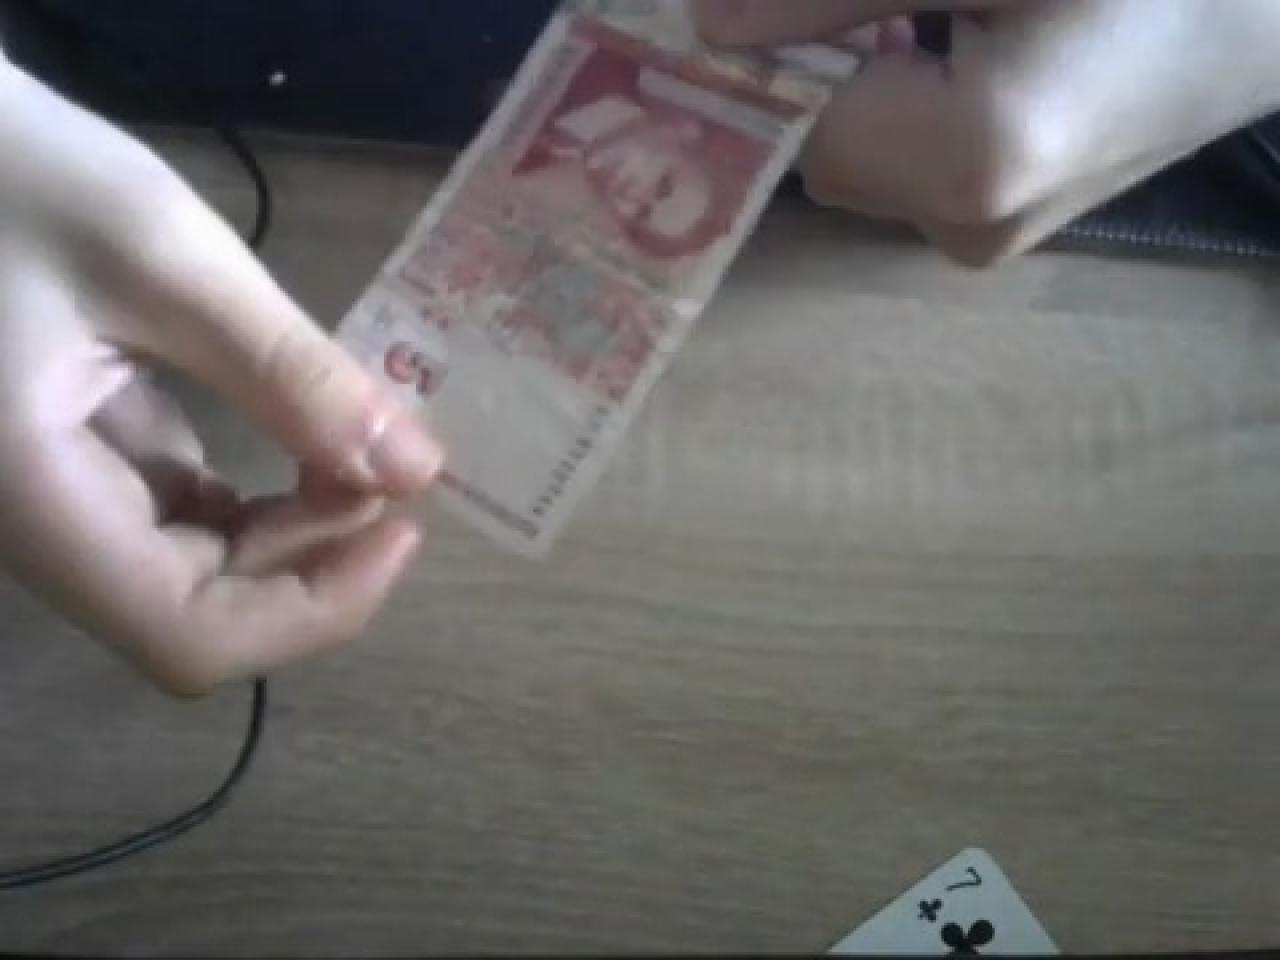5leva: (331, 0, 877, 560)
